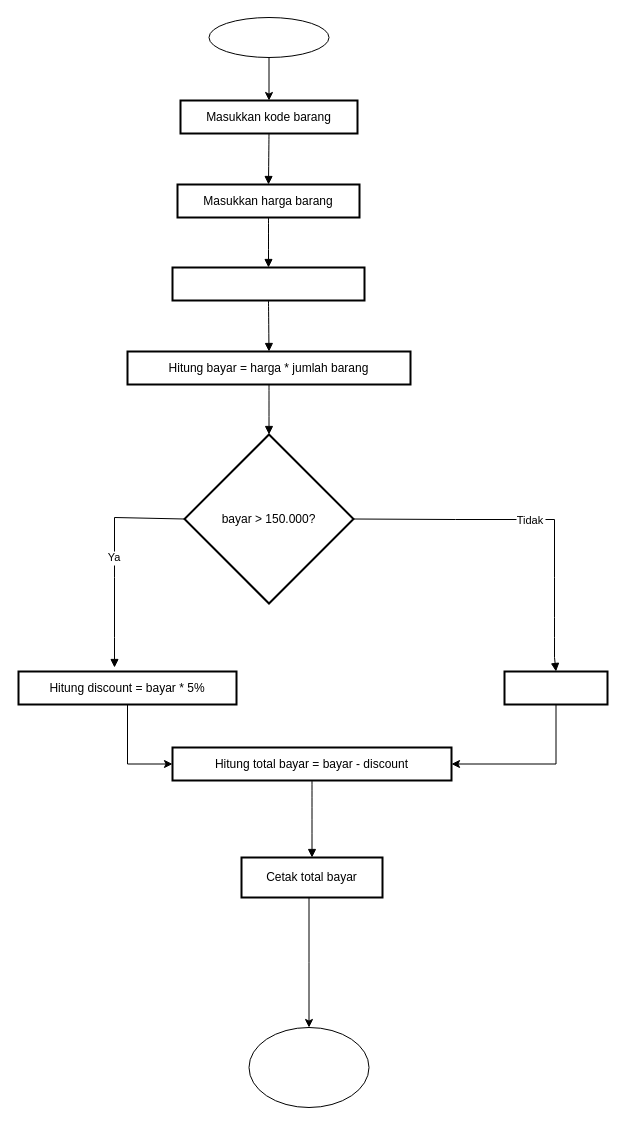
Some shapes in this 625 by 1125 pixel diagram are drawn without their labels. Here are the shapes that lost their labels. From the top down, the centre of each, then its label:
At pixel 268 37: "Mulai".
At pixel 268 283: "Masukkan jumlah barang".
At pixel 555 687: "Discount = 0".
At pixel 308 1067: "Selesai".
